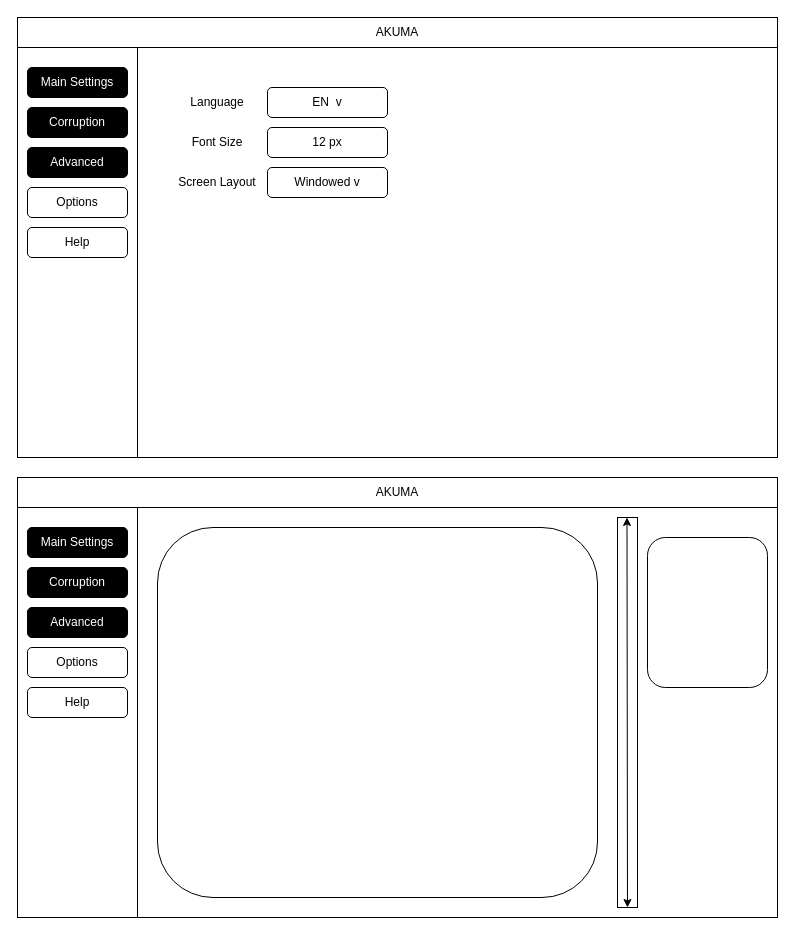
The diagram is 795 pixels wide and 935 high, and some of its shapes have lost their labels. Each missing label, with the centre of its shape:
"Readme & Instruction's" belongs at point 377,712.
"Something wrong? Please reach out: Project_Page Habr_Page Linkedin" belongs at point 707,612.
